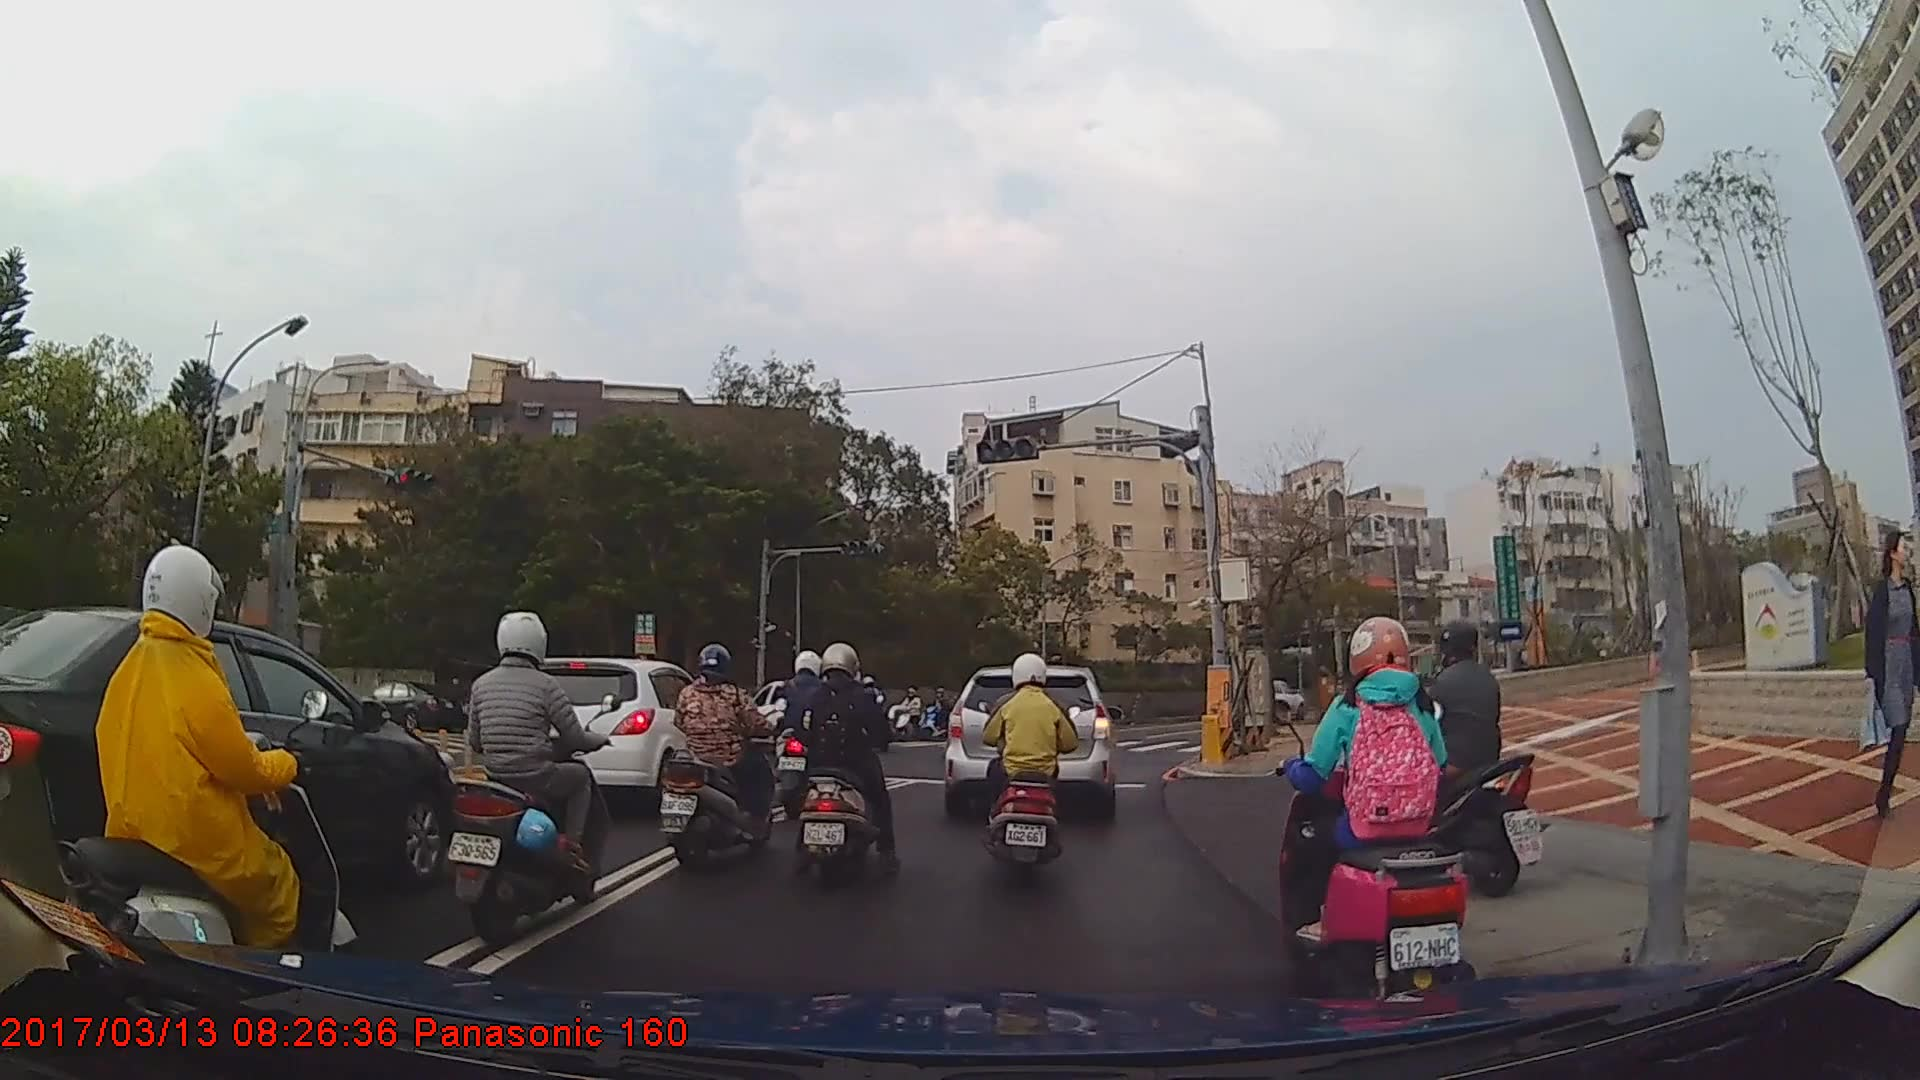pedestrian: (1862, 528, 1920, 819)
rider: (55, 543, 360, 1009), (1276, 616, 1468, 995), (443, 606, 617, 953), (1376, 620, 1538, 897), (788, 640, 904, 892), (660, 642, 783, 876), (985, 649, 1082, 879), (769, 649, 841, 819)
vehicle: (0, 604, 462, 954), (510, 655, 743, 816), (938, 664, 1117, 819), (353, 681, 461, 731), (1251, 674, 1303, 723)
